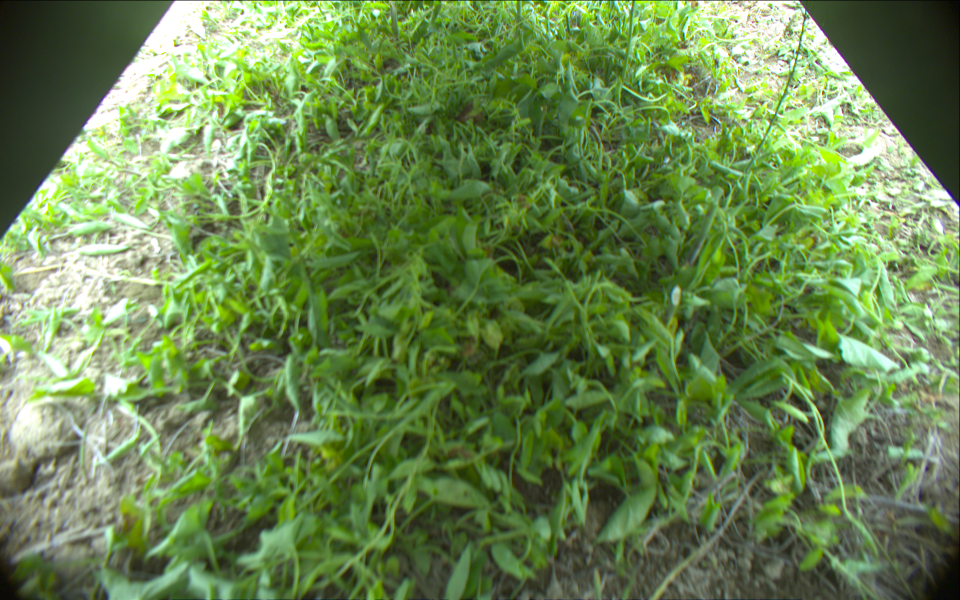aspa: (740, 6, 808, 180), (686, 199, 718, 264), (623, 1, 636, 72), (517, 1, 524, 24)
